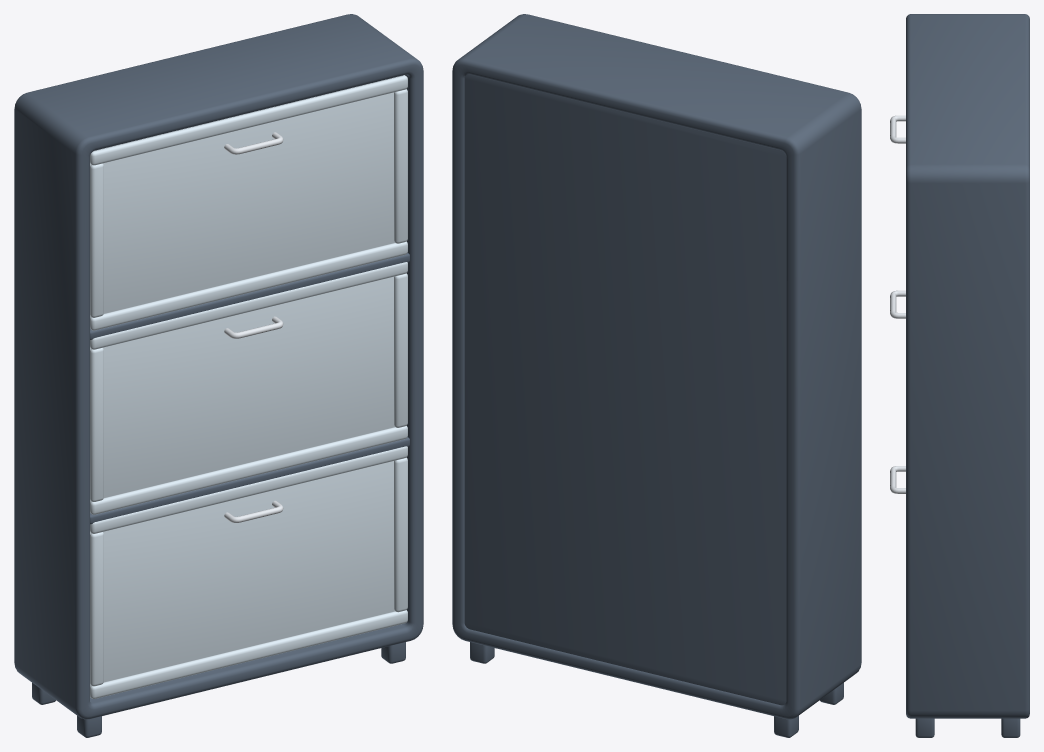
File: sapateira_basculante_cinza_3.glb
The picture shows the model from 3 angles, left to right: view 1: azimuth 30°, elevation 25°; view 2: azimuth 150°, elevation 25°; view 3: azimuth 270°, elevation 25°; orthographic projection. The views are drawn at different scales.
Visible parts, largest first — view 1: sapateira_basculante_cinza_3, basculante_3, basculante_2, basculante_1; view 2: sapateira_basculante_cinza_3; view 3: sapateira_basculante_cinza_3, basculante_3, basculante_2, basculante_1.
Part boxes in pixels (x1,y1,x2,y2): sapateira_basculante_cinza_3: [14, 14, 423, 737]; basculante_3: [90, 75, 407, 330]; basculante_2: [90, 262, 407, 514]; basculante_1: [90, 446, 407, 698]; sapateira_basculante_cinza_3: [452, 14, 861, 737]; sapateira_basculante_cinza_3: [906, 14, 1029, 737]; basculante_3: [890, 115, 905, 143]; basculante_2: [890, 290, 905, 318]; basculante_1: [890, 466, 905, 493].
Size of the model in its own units: 0.8 by 1.33 by 0.2935.
1 material, 1 textured.
